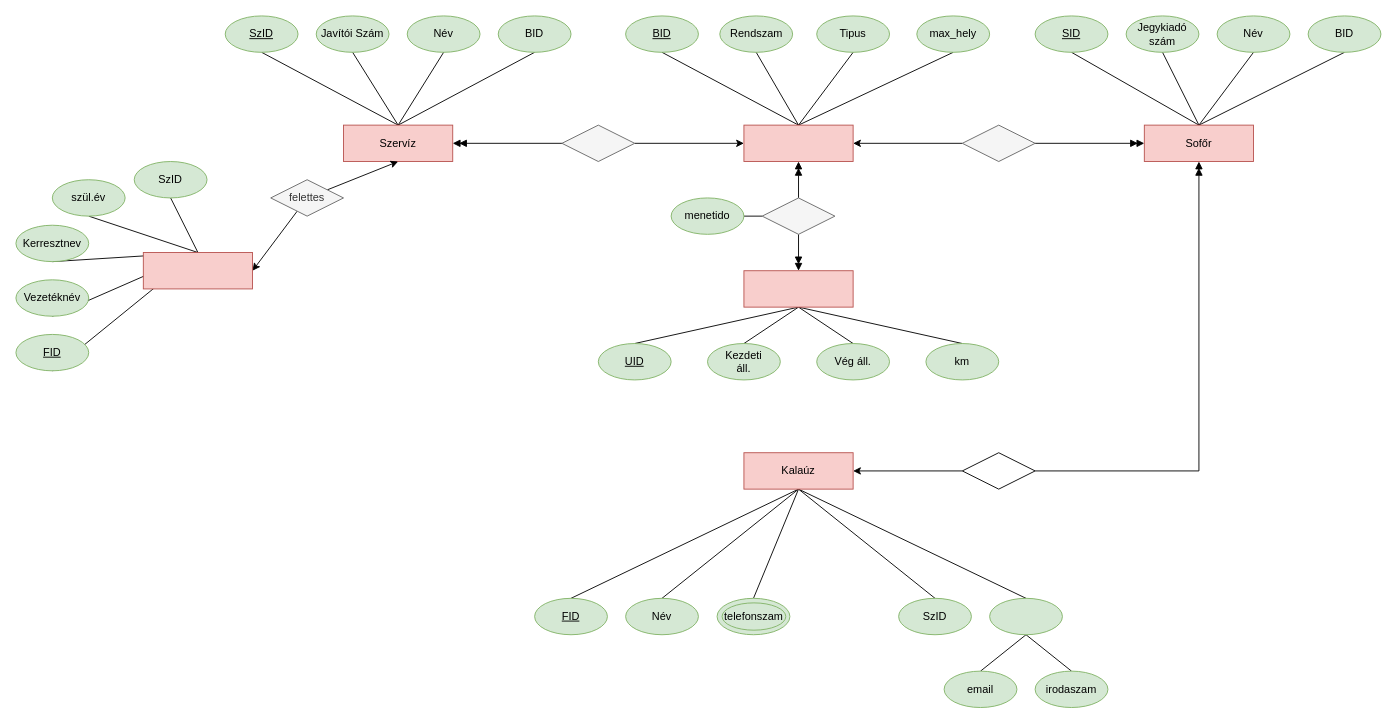
Some shapes in this 1397 by 723 pixel diagram are drawn without their labels. The centre of each missing label's shape, as x and y in pixels:
"Busz" belongs at point 798,143.
"elerhetoseg" belongs at point 1025,616.
"Ellenőriz" belongs at point 998,470.
"Főnök" belongs at point 197,270.
"halad" belongs at point 798,215.
"karbantart" belongs at point 598,143.
"Vezet" belongs at point 998,143.
"Útvonal" belongs at point 798,288.
